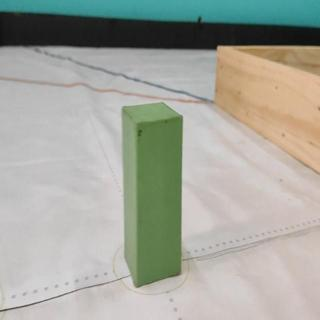greenbox: (121, 101, 184, 290)
